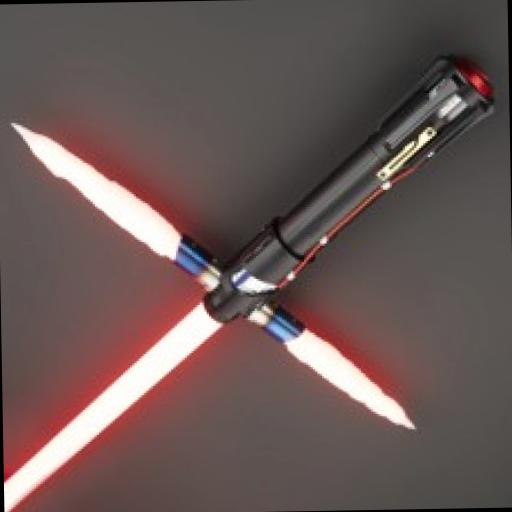sith saber: (0, 60, 499, 512)
